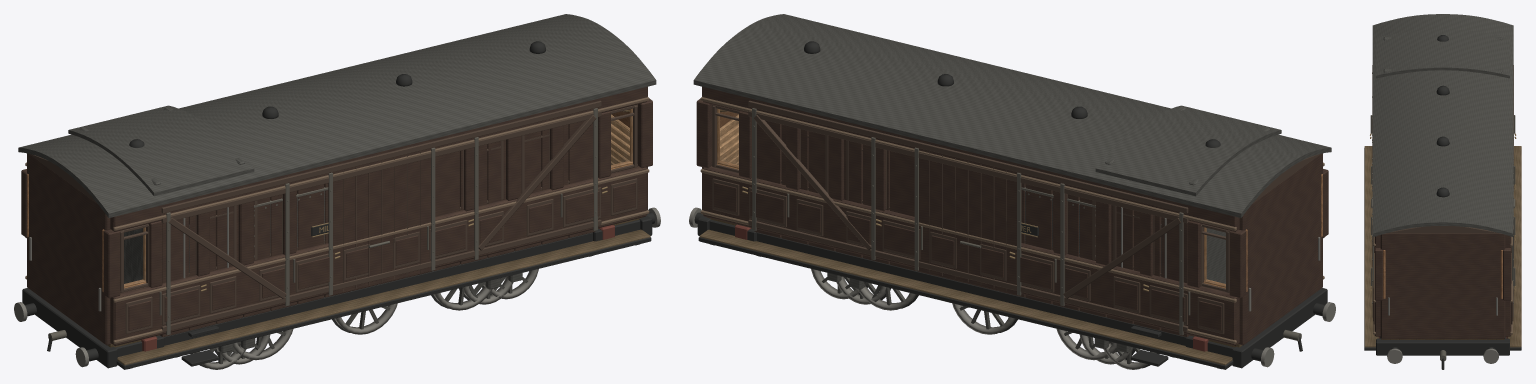
The model's file is scar-milner.glb.
The picture shows the model from 3 angles, left to right: view 1: azimuth 30°, elevation 25°; view 2: azimuth 150°, elevation 25°; view 3: azimuth 270°, elevation 25°; orthographic projection. The views are drawn at different scales.
Parts seen in each view (by area): view 1: Scar_coach – Soot-stained roof canvas, Scar_coach – Coach body paint, Scar_van – Van planks, Scar_van – Coach moulding, Scar_coach – Soot black steel, Milner – Soot-stained roof canvas, Scar_coach – Coach moulding, Scar_coach – Dirty floorboards, Scar_coach – Rubbing strip, Scar_van – Oily motion steel, Milner – Painted iron, Scar_coach – Polished ash seating (+5 smaller); view 2: Scar_coach – Soot-stained roof canvas, Scar_coach – Coach body paint, Scar_van – Van planks, Scar_van – Coach moulding, Scar_coach – Soot black steel, Milner – Soot-stained roof canvas, Scar_coach – Coach moulding, Scar_coach – Dirty floorboards, Scar_coach – Rubbing strip, Scar_van – Oily motion steel, Milner – Painted iron, Scar_coach – Polished ash seating (+4 smaller); view 3: Scar_coach – Soot-stained roof canvas, Scar_coach – Coach body paint, Milner – Soot-stained roof canvas, Scar_coach – Dirty floorboards, Scar_coach – Soot black steel, Scar_coach – Coach moulding, Scar_coach – Worn steel, Scar_coach – Oily motion steel, Scar_van – Oily motion steel, Scar_van – Coach moulding, Scar_coach – Varnished compartment doors, Scar_coach – Rubbing strip.
Boxes of the visible parts, box(x1,y1,x2,y2) form: Scar_coach – Soot-stained roof canvas: box(18, 14, 656, 217); Scar_coach – Coach body paint: box(21, 86, 652, 345); Scar_van – Van planks: box(160, 120, 595, 336); Scar_van – Coach moulding: box(161, 100, 601, 332); Scar_coach – Soot black steel: box(22, 41, 655, 369); Milner – Soot-stained roof canvas: box(68, 105, 254, 196); Scar_coach – Coach moulding: box(29, 104, 637, 333); Scar_coach – Dirty floorboards: box(108, 217, 650, 365); Scar_coach – Rubbing strip: box(25, 96, 649, 343); Scar_van – Oily motion steel: box(166, 108, 597, 335); Milner – Painted iron: box(79, 106, 324, 283); Scar_coach – Polished ash seating: box(611, 114, 629, 164); Scar_coach – Soot-stained roof canvas: box(693, 14, 1331, 217); Scar_coach – Coach body paint: box(696, 86, 1328, 345); Scar_van – Van planks: box(754, 120, 1189, 336); Scar_van – Coach moulding: box(748, 100, 1188, 332); Scar_coach – Soot black steel: box(694, 41, 1327, 369); Milner – Soot-stained roof canvas: box(1095, 105, 1281, 196); Scar_coach – Coach moulding: box(712, 104, 1320, 333); Scar_coach – Dirty floorboards: box(699, 217, 1241, 365); Scar_coach – Rubbing strip: box(700, 96, 1324, 343); Scar_van – Oily motion steel: box(752, 108, 1183, 335); Milner – Painted iron: box(1025, 106, 1270, 283); Scar_coach – Polished ash seating: box(720, 114, 738, 164); Scar_coach – Soot-stained roof canvas: box(1372, 14, 1513, 237); Scar_coach – Coach body paint: box(1373, 233, 1513, 339); Milner – Soot-stained roof canvas: box(1376, 29, 1509, 78); Scar_coach – Dirty floorboards: box(1364, 146, 1521, 347); Scar_coach – Soot black steel: box(1364, 35, 1521, 369); Scar_coach – Coach moulding: box(1373, 226, 1512, 324); Scar_coach – Worn steel: box(1387, 297, 1498, 363); Scar_coach – Oily motion steel: box(1370, 115, 1515, 361); Scar_van – Oily motion steel: box(1371, 72, 1515, 317); Scar_van – Coach moulding: box(1372, 65, 1513, 266); Scar_coach – Varnished compartment doors: box(1383, 250, 1503, 298); Scar_coach – Rubbing strip: box(1373, 237, 1512, 334).
Size of the model in its own units: 8.9 by 3.26 by 2.68.
Materials: 23 (12 with a texture image).
